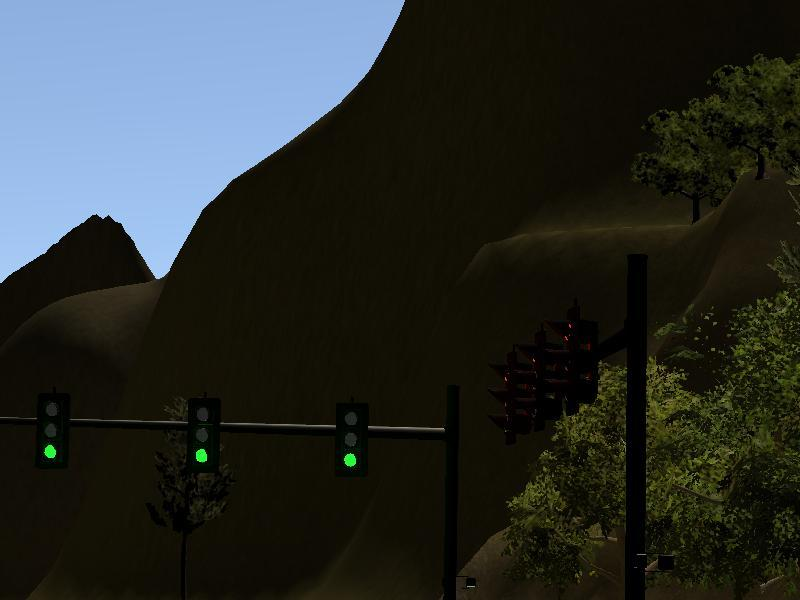Green: (35, 388, 62, 476), (335, 401, 365, 479), (192, 393, 218, 482)
